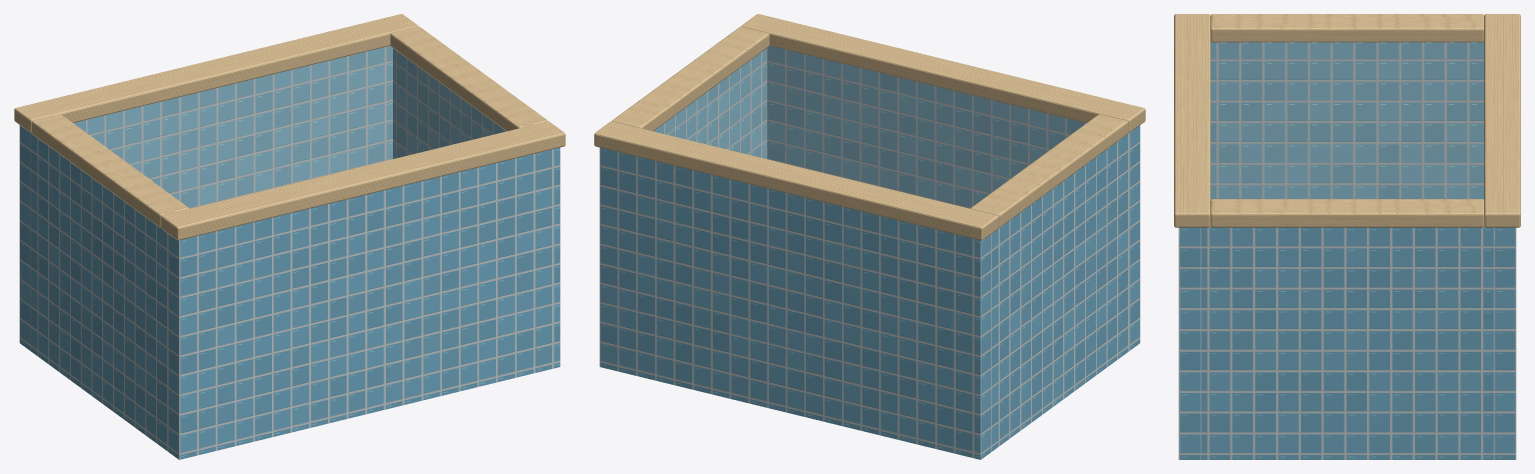
Rendered from ofuro_own.glb.
The picture shows the model from 3 angles, left to right: view 1: azimuth 30°, elevation 25°; view 2: azimuth 150°, elevation 25°; view 3: azimuth 270°, elevation 25°; orthographic projection. The views are drawn at different scales.
Visible parts, largest first — view 1: box; view 2: box; view 3: box.
Boxes of the visible parts, bbox=[...] form: box: bbox=[14, 14, 565, 459]; box: bbox=[594, 14, 1145, 459]; box: bbox=[1174, 14, 1520, 459].
Bounding box in the file's own units: 1.04 × 0.6 × 0.76.
Materials: 4 (4 with a texture image).
